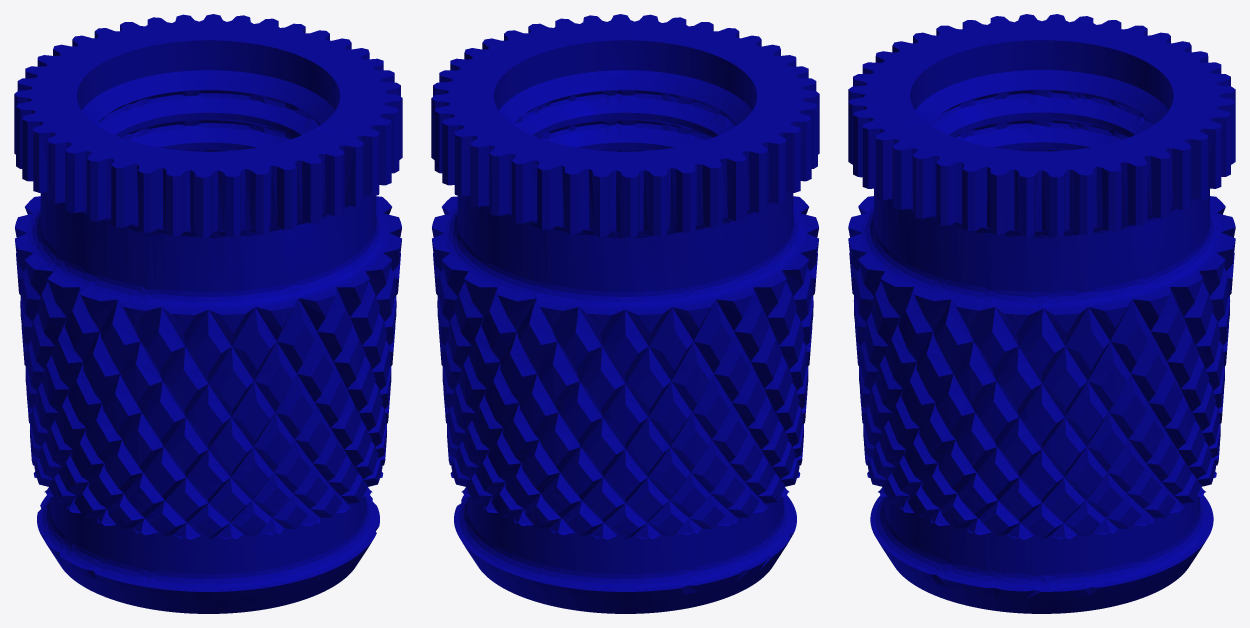
File: fastener_error.glb
The picture shows the model from 3 angles, left to right: view 1: azimuth 30°, elevation 25°; view 2: azimuth 150°, elevation 25°; view 3: azimuth 270°, elevation 25°; orthographic projection.
Visible parts, largest first — view 1: genus_1.obj; view 2: genus_1.obj; view 3: genus_1.obj.
Boxes of the visible parts, x1,y1,x2,y2 form: genus_1.obj: (14, 14, 402, 613); genus_1.obj: (431, 14, 819, 613); genus_1.obj: (848, 14, 1235, 613).
Size of the model in its own units: 1.19 by 1.54 by 1.19.
